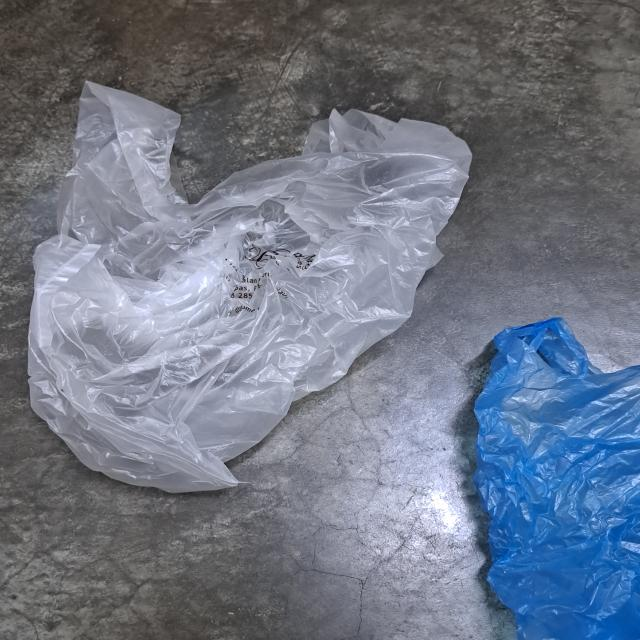plastic bag: (24, 78, 473, 496), (467, 317, 640, 640)
